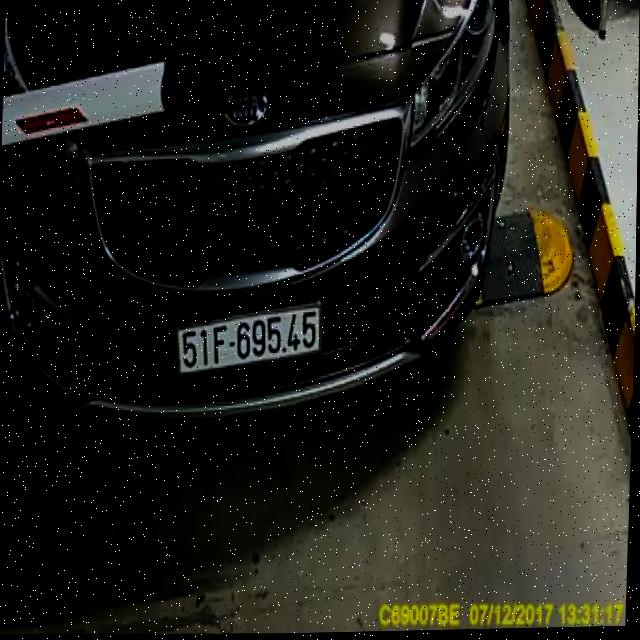car: (0, 0, 524, 437)
plate: (172, 300, 324, 381)
